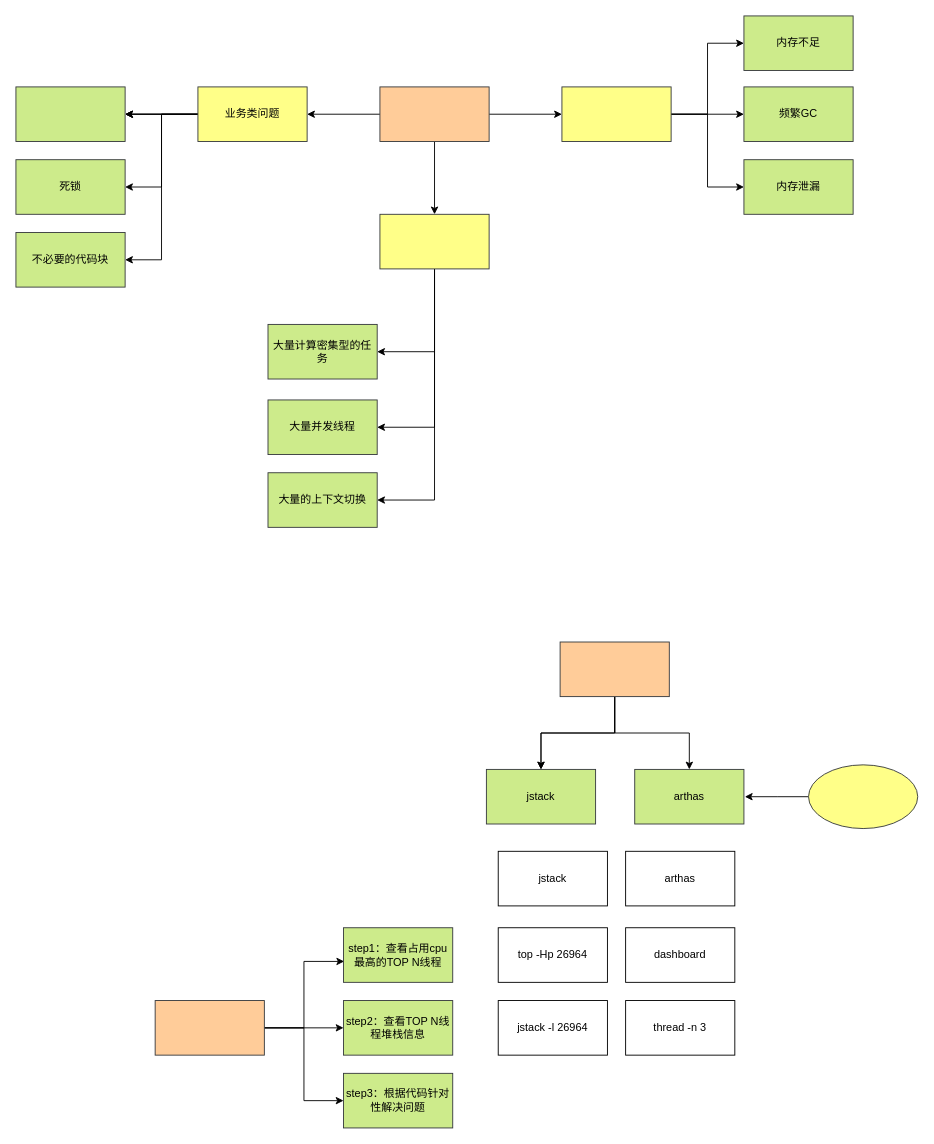
The diagram is 934 pixels wide and 1144 high, and some of its shapes have lost their labels. The centre of each missing label's shape, as x and y in pixels:
"CPU飙升100%" goes at (434,114).
"CPU飙升100%定位的两大神器" goes at (614,669).
"CPU飙升100%的解决方法论" goes at (209,1027).
"内存类问题" goes at (616,114).
"并发类问题" goes at (434,241).
"推荐" goes at (863,796).
"死循环" goes at (70,114).
